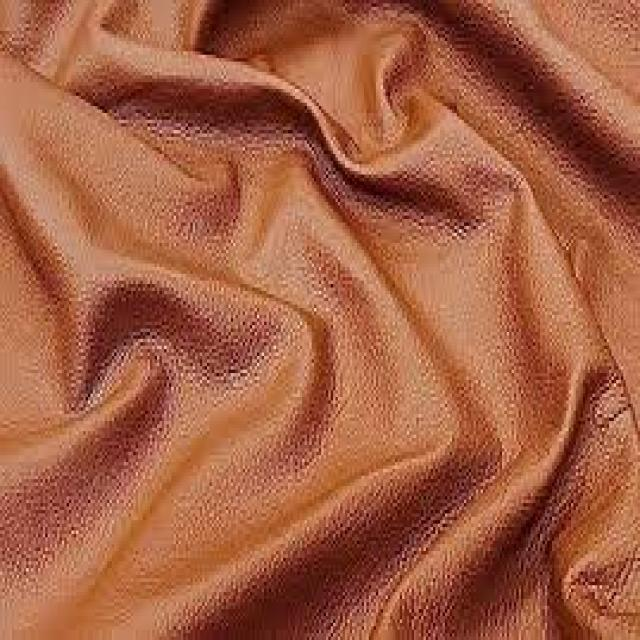Crease: (253, 131, 417, 454), (503, 178, 620, 404), (15, 376, 169, 492)
